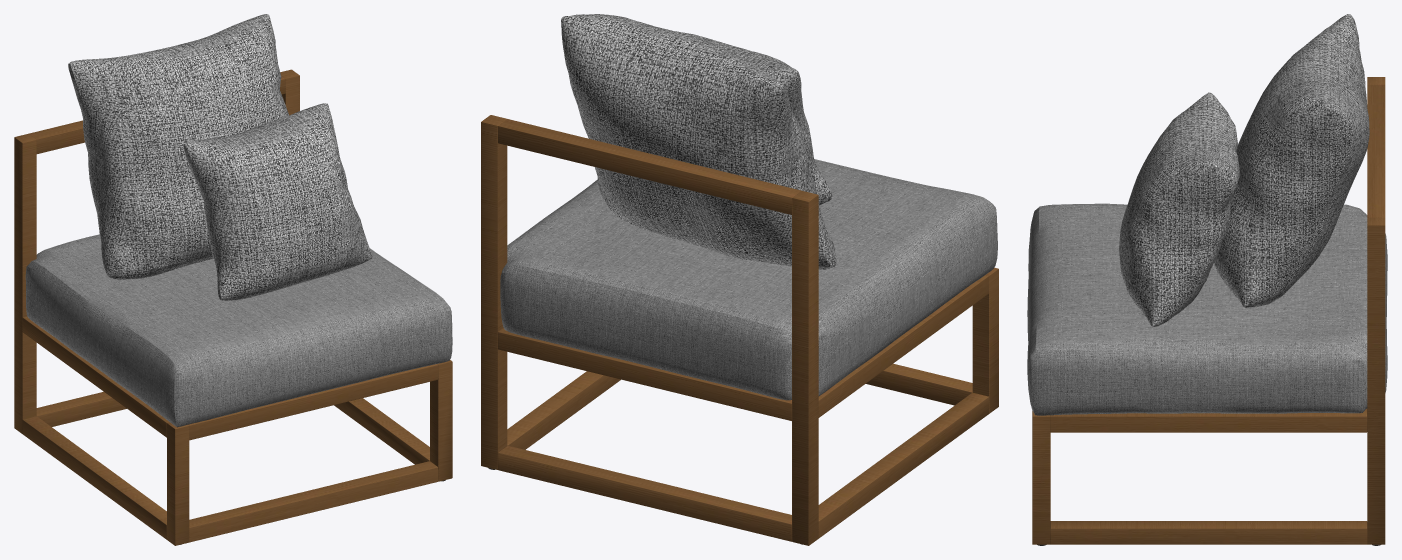
The picture shows the model from 3 angles, left to right: view 1: azimuth 30°, elevation 25°; view 2: azimuth 150°, elevation 25°; view 3: azimuth 270°, elevation 25°; orthographic projection. The views are drawn at different scales.
Parts seen in each view (by area): view 1: C-skp6C16; view 2: C-skp6C16; view 3: C-skp6C16.
Boxes of the visible parts, box(x1,y1,x2,y2) form: C-skp6C16: box(14, 14, 452, 545); C-skp6C16: box(481, 14, 998, 545); C-skp6C16: box(1027, 14, 1387, 545).
Size of the model in its own units: 0.6448 by 0.8148 by 0.6421.
4 materials, 3 textured.
